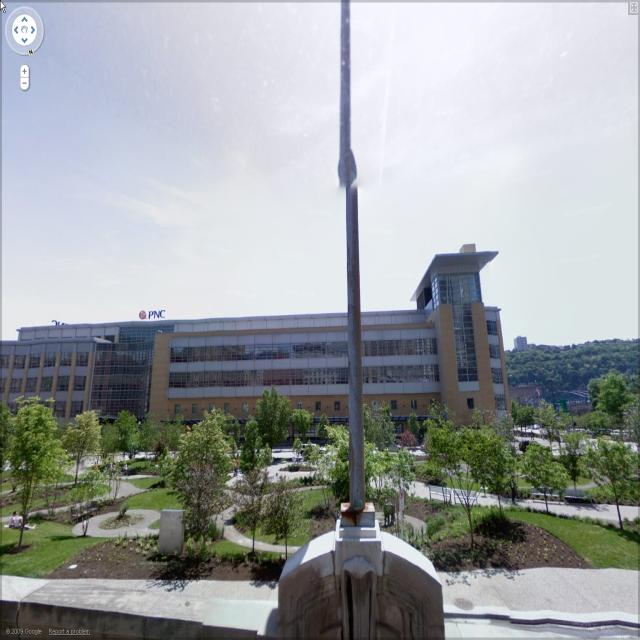b_1: (0, 252, 518, 416), (511, 332, 536, 362)
